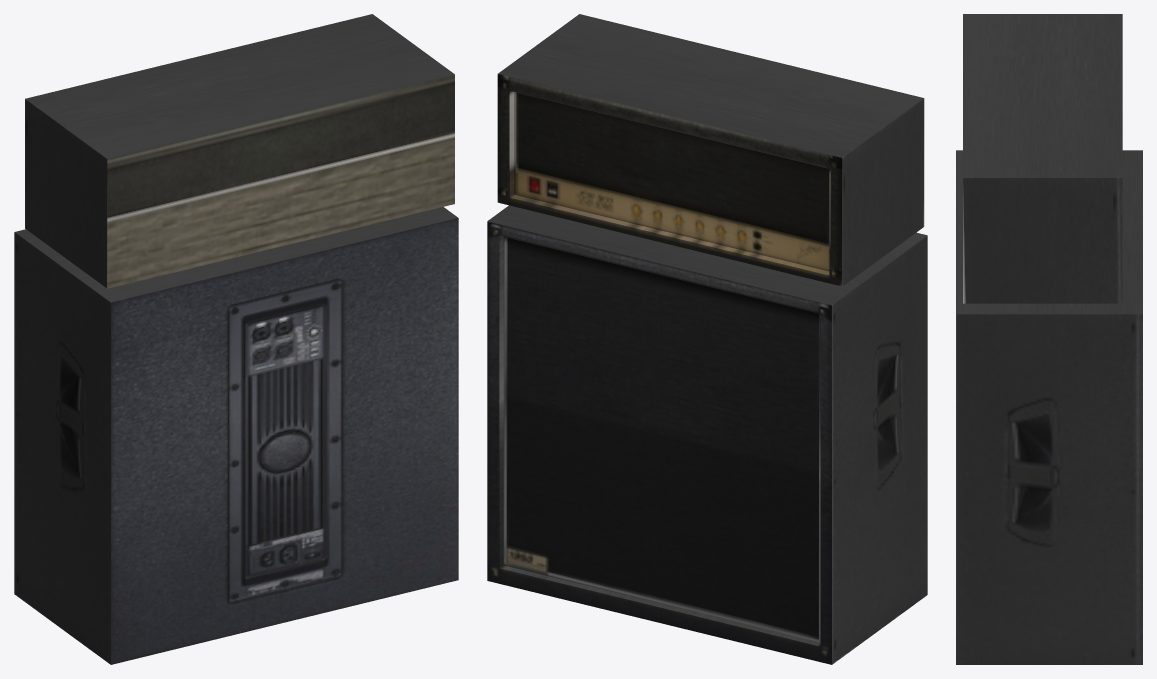
Rendered from LIH0210022.fbx.
3 views of the same model, side by side, from view 1: azimuth 30°, elevation 25°; view 2: azimuth 150°, elevation 25°; view 3: azimuth 270°, elevation 25° (orthographic). The views are drawn at different scales.
Parts seen in each view (by area): view 1: smLIH0210022; view 2: smLIH0210022; view 3: smLIH0210022.
Part boxes in pixels (x1,y1,x2,y2): smLIH0210022: (14, 14, 458, 664); smLIH0210022: (487, 14, 927, 664); smLIH0210022: (956, 14, 1142, 664).
Size of the model in its own units: 77.2 by 107 by 37.14.
1 material, 1 textured.
